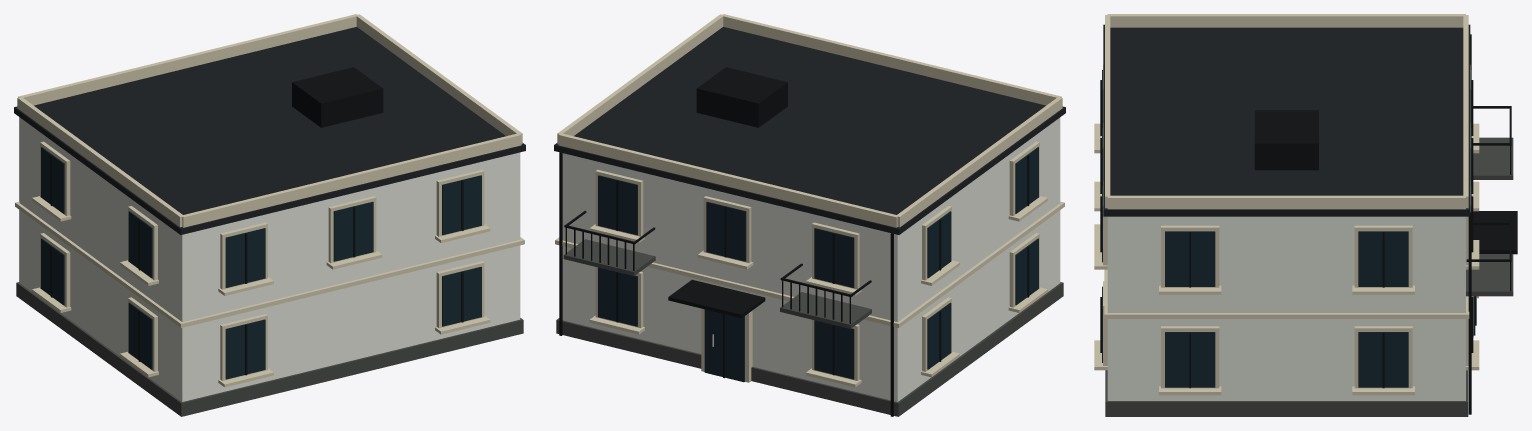
Rendered from 14_WhiteVilla.obj.
3 renders of one model, left to right at view 1: azimuth 30°, elevation 25°; view 2: azimuth 150°, elevation 25°; view 3: azimuth 270°, elevation 25°, orthographic. The views are drawn at different scales.
Parts seen in each view (by area): view 1: White, Roof, Trim, Glass, Base, Metal; view 2: White, Roof, Trim, Glass, Metal, Base; view 3: Roof, White, Trim, Glass, Base, Metal.
Part boxes in pixels (bbox=[...]): White: bbox=[19, 117, 520, 401]; Roof: bbox=[14, 27, 525, 234]; Trim: bbox=[15, 14, 524, 387]; Glass: bbox=[41, 147, 481, 379]; Base: bbox=[16, 282, 523, 416]; Metal: bbox=[19, 67, 463, 375]; White: bbox=[562, 117, 1060, 401]; Roof: bbox=[554, 27, 1065, 234]; Trim: bbox=[555, 14, 1064, 387]; Glass: bbox=[598, 147, 1038, 382]; Metal: bbox=[559, 67, 1029, 416]; Base: bbox=[556, 239, 1063, 416]; Roof: bbox=[1103, 24, 1470, 216]; White: bbox=[1107, 216, 1465, 400]; Trim: bbox=[1094, 14, 1479, 395]; Glass: bbox=[1102, 70, 1475, 387]; Base: bbox=[1105, 137, 1513, 416]; Metal: bbox=[1100, 34, 1517, 414].
Size of the model in its own units: 12.76 by 7.22 by 11.83.
